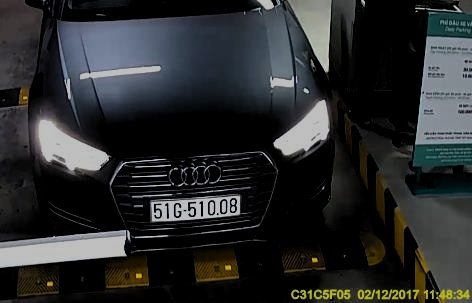plate: (152, 195, 239, 217)
